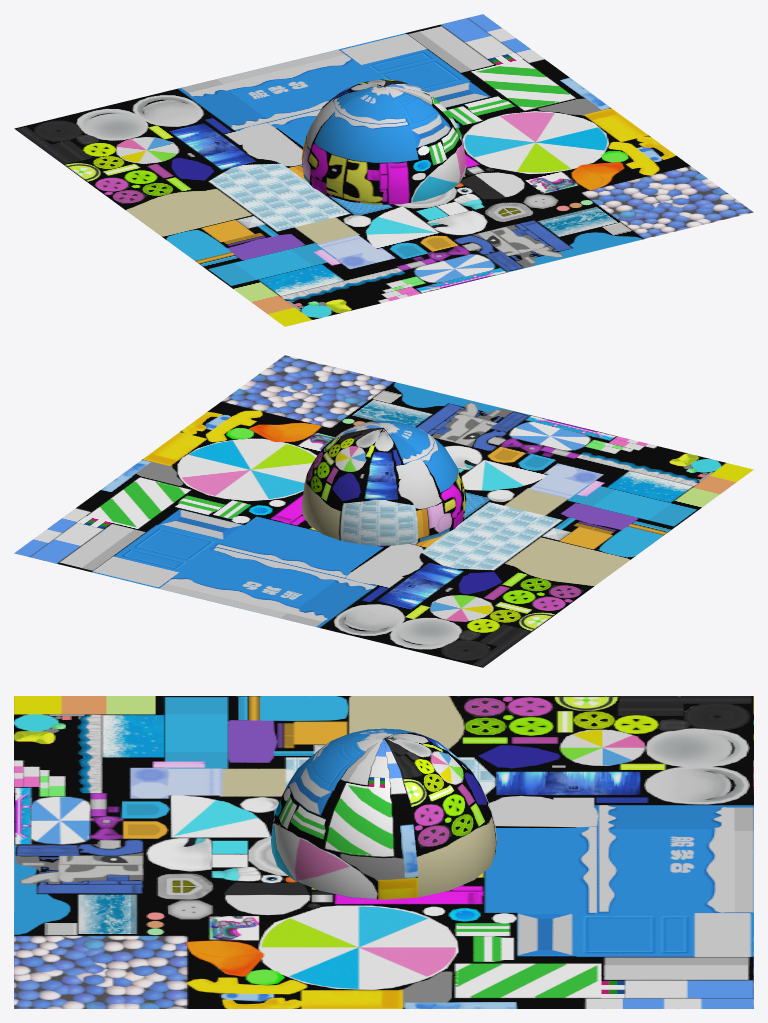
File: testball.dae
3 views of the same model, one above another, from view 1: azimuth 30°, elevation 25°; view 2: azimuth 150°, elevation 25°; view 3: azimuth 270°, elevation 25° (orthographic). The views are drawn at different scales.
Parts seen in each view (by area): view 1: testball; view 2: testball; view 3: testball.
Boxes of the visible parts, x1,y1,x2,y2 form: testball: (14,14,753,326); testball: (14,355,753,667); testball: (14,696,753,1008).
Bounding box in the file's own units: 0.412 × 0.126 × 0.412.
Materials: 1 (1 with a texture image).
